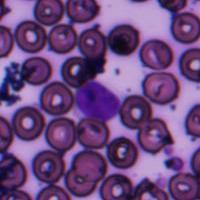L: (74, 78, 123, 122)
